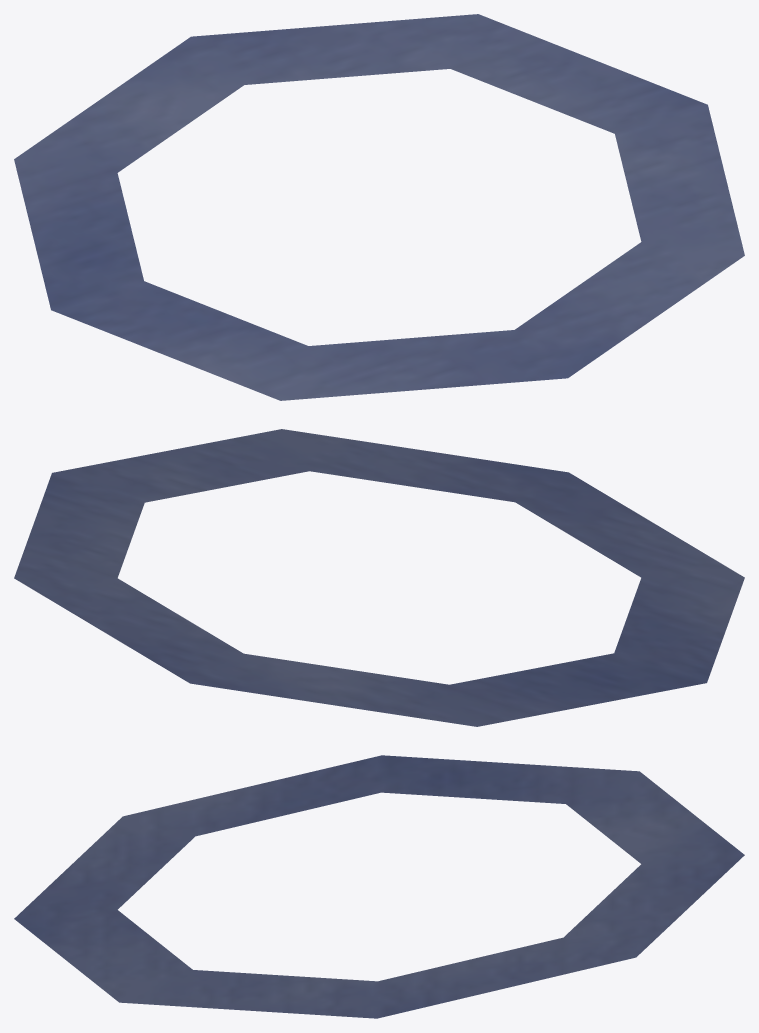
3 views of the same model, one above another, from view 1: azimuth 30°, elevation 25°; view 2: azimuth 150°, elevation 25°; view 3: azimuth 270°, elevation 25° (orthographic). The views are drawn at different scales.
Visible parts, largest first — view 1: Tube02; view 2: Tube02; view 3: Tube02.
Part boxes in pixels (bbox=[...]): Tube02: bbox=[14, 14, 744, 400]; Tube02: bbox=[14, 429, 744, 726]; Tube02: bbox=[14, 755, 744, 1018].
Bounding box in the file's own units: 1952 × 229 × 1947.
1 material, 1 textured.
